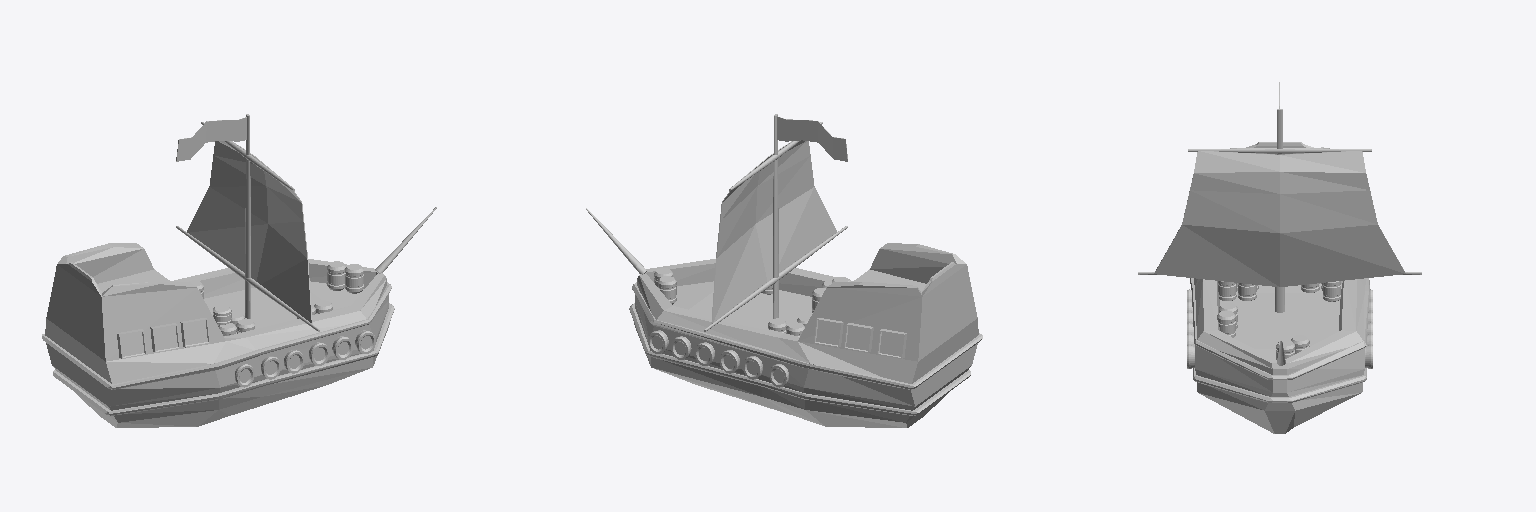
The picture shows the model from 3 angles: view 1: azimuth 30°, elevation 25°; view 2: azimuth 150°, elevation 25°; view 3: azimuth 270°, elevation 25°; orthographic projection.
Parts seen in each view (by area): view 1: corpus, Plane, corpus.001, Plane.001, Balka1.001, Balka2.002, okno, okno.001, okno.002; view 2: corpus, Plane, corpus.001, Plane.001, Balka1.001, Balka2.002, okno.004, okno.003, okno.005; view 3: Plane, corpus, corpus.001, Balka2.001.
Part boxes in pixels (x1,y1,x2,y2): corpus: (45, 243, 394, 427); Plane: (187, 141, 312, 323); corpus.001: (42, 282, 391, 389); Plane.001: (176, 117, 246, 161); Balka1.001: (245, 114, 250, 318); Balka2.002: (176, 226, 319, 331); okno: (117, 329, 146, 358); okno.001: (150, 323, 179, 352); okno.002: (180, 318, 209, 347); corpus: (629, 243, 978, 427); Plane: (711, 140, 836, 323); corpus.001: (632, 282, 982, 389); Plane.001: (777, 117, 847, 161); Balka1.001: (773, 114, 778, 318); Balka2.002: (704, 226, 847, 331); okno.004: (844, 323, 873, 352); okno.003: (877, 329, 906, 358); okno.005: (814, 318, 843, 347); Plane: (1154, 151, 1405, 286); corpus: (1193, 142, 1366, 433); corpus.001: (1190, 278, 1369, 379); Balka2.001: (1188, 148, 1371, 153).
Size of the model in its own units: 10.54 by 8.14 by 7.14.